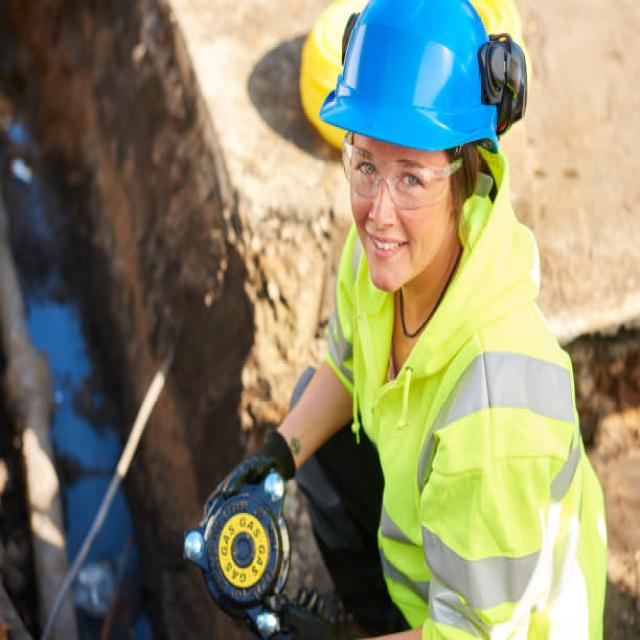gloves: (200, 430, 298, 524), (254, 585, 328, 640)
